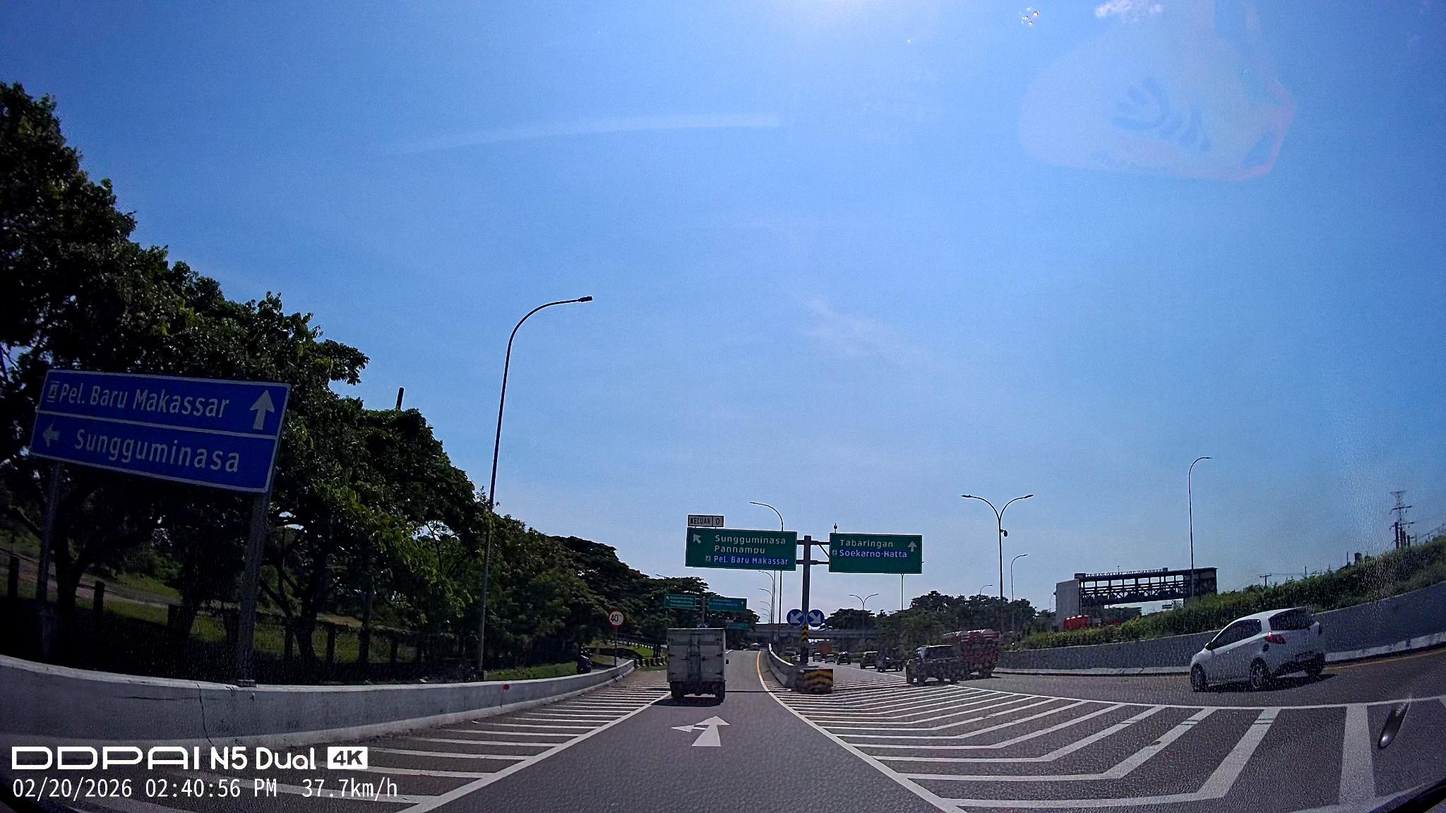rambu_teks: (686, 527, 797, 571), (829, 532, 922, 574)
